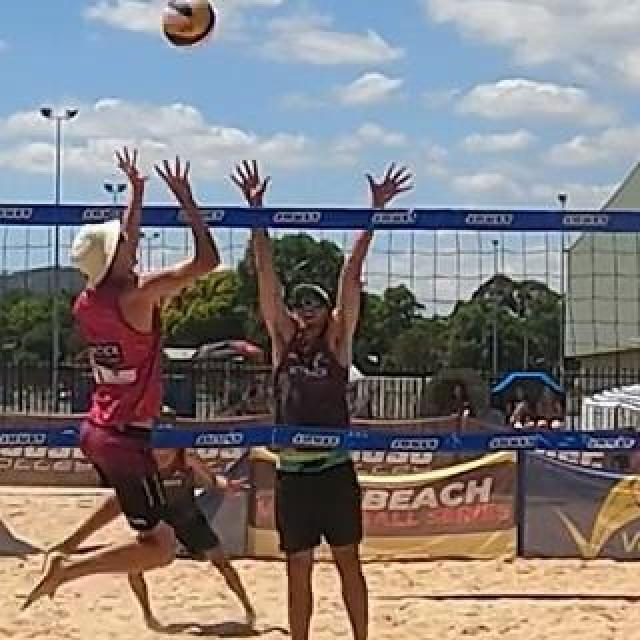volleyball: (162, 0, 214, 46)
